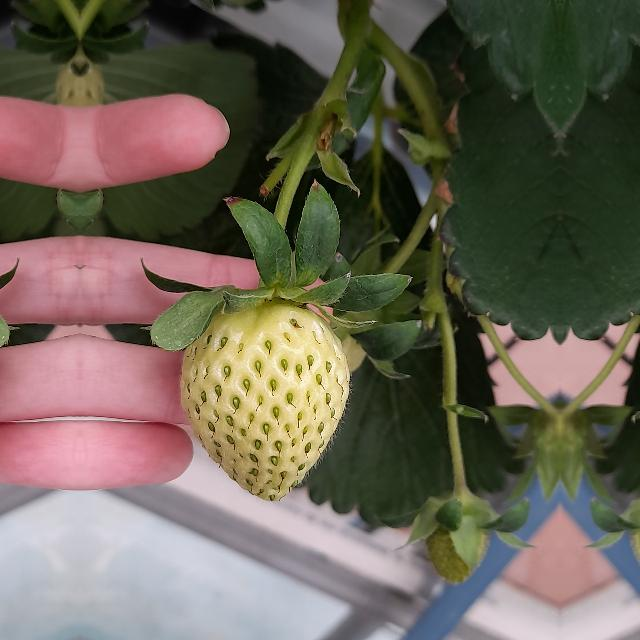Health_25: (180, 297, 350, 501)
